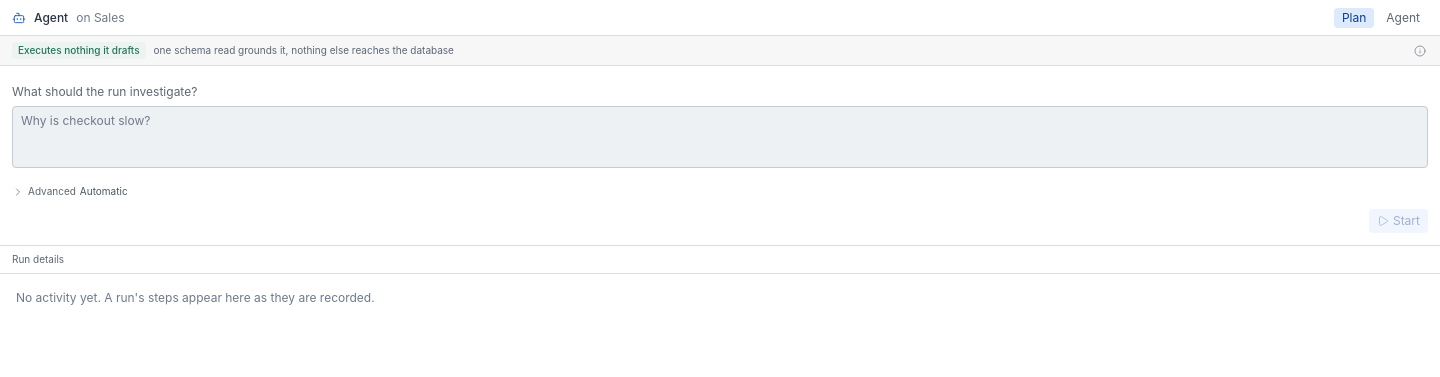
Test: AgentRail › a repointed conversation renders its own sentence
The image size is (1440, 377).
Type "chart those" into the text box with test id "agent-objective" at (720, 137), box [12,106,1428,168]
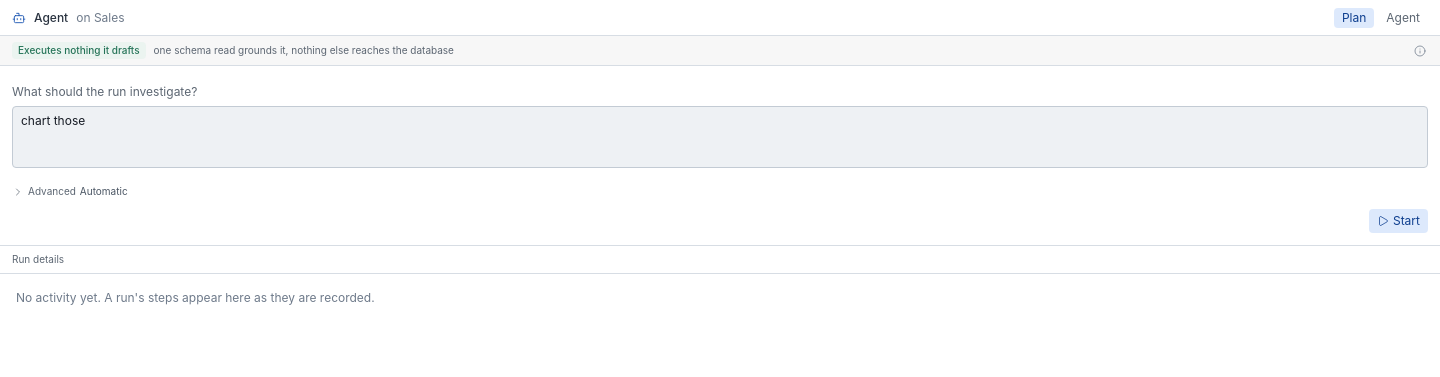
Click the button with test id "agent-start" at (1398, 221), box [1369,209,1428,233]
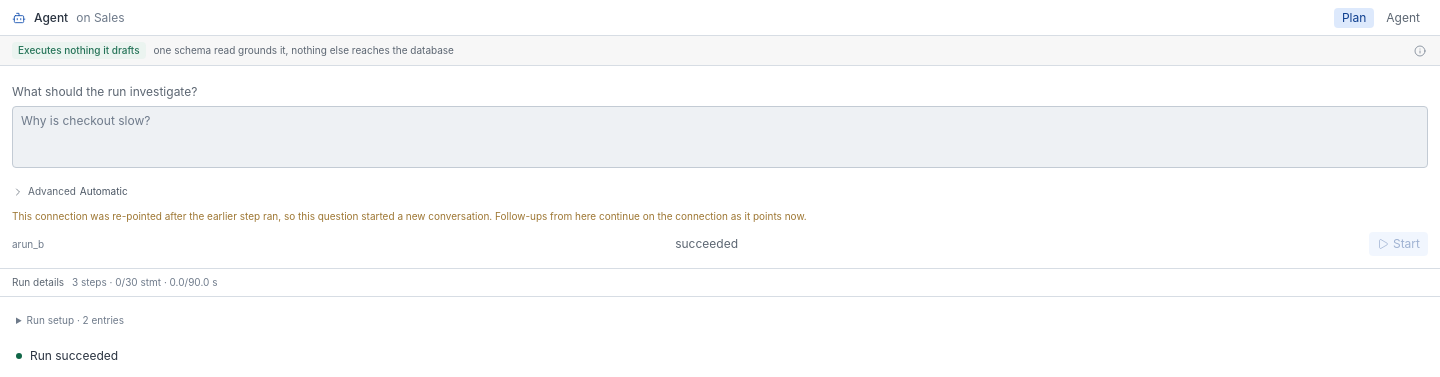
Expected: the text with test id "agent-thread-notice" shows "This connection was re-pointed after the earlier step ran, so this question started a new conversation. Follow-ups from here continue on the connection as it po", [12,210,807,222]
